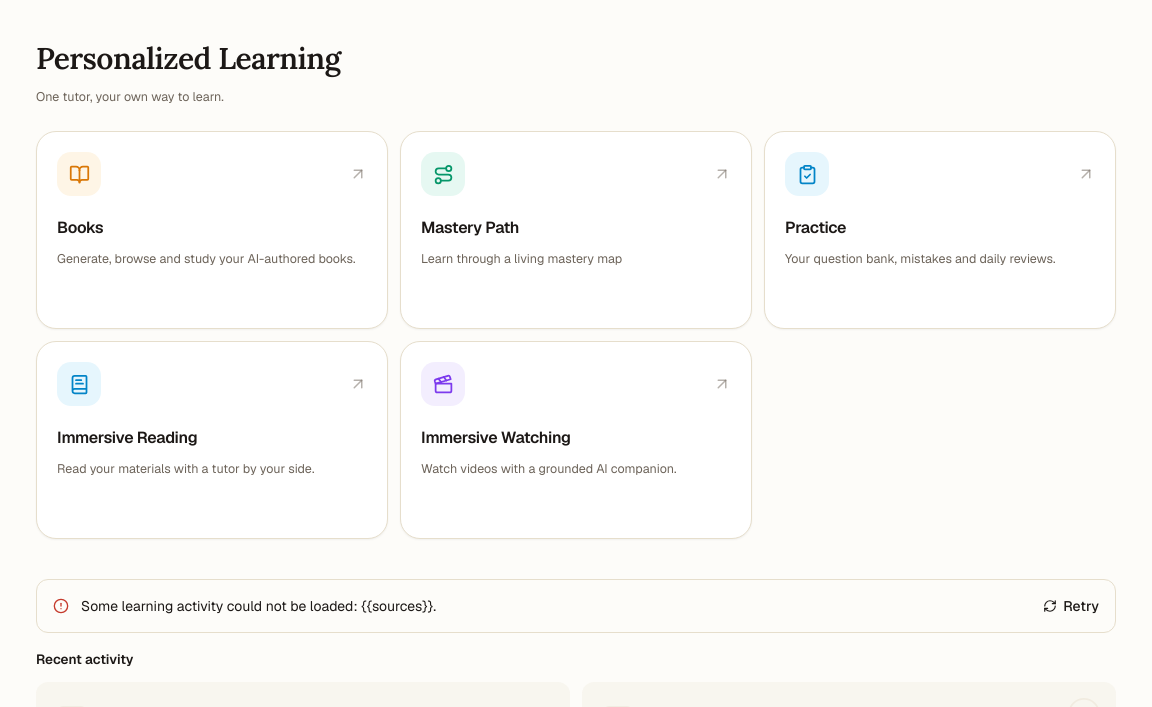
Test case: a failed source preserves other activities and user titles are never translated
Expected: the message "Some learning activity could not be loaded: {{sources}}. Retry" is shown, [36, 579, 1116, 633]
Click the button "Retry".
click(1071, 606)  # box [1043, 596, 1099, 616]
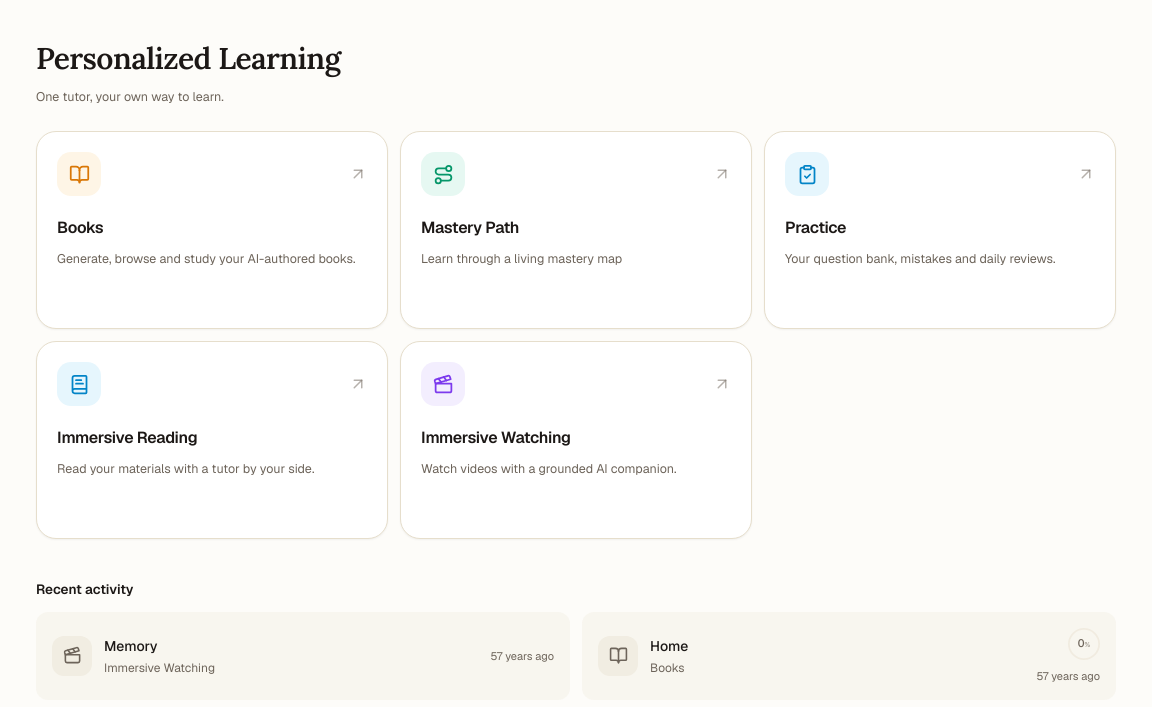
Result: the message "Some learning activity could not be loaded: {{sources}}. Retry" is gone
